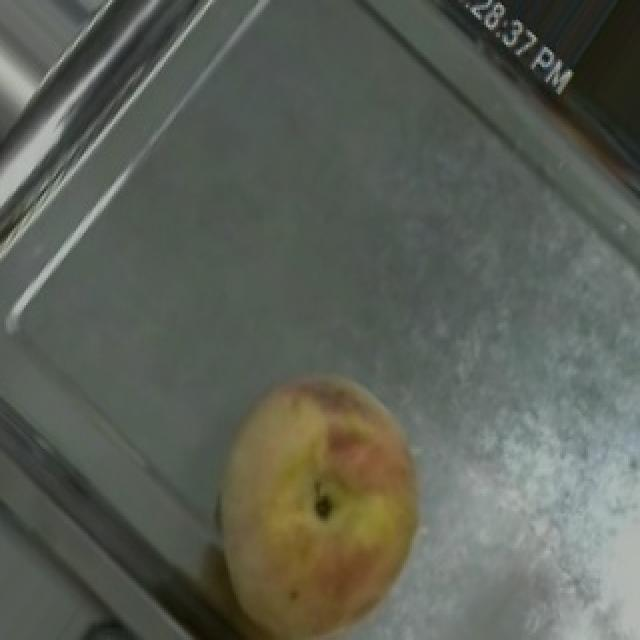Fruit: (168, 337, 456, 640)
